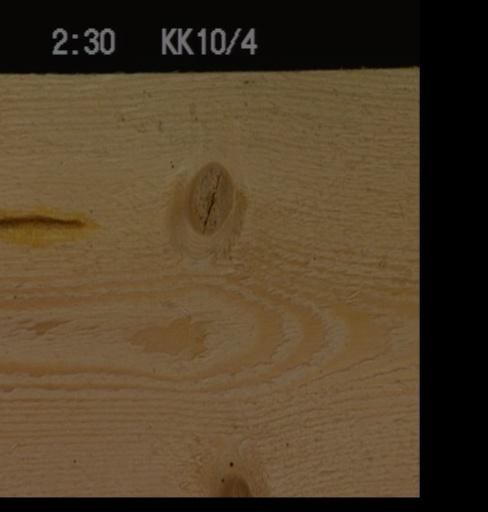edge_knot: (213, 456, 258, 495)
sound_knot: (182, 158, 235, 238)
